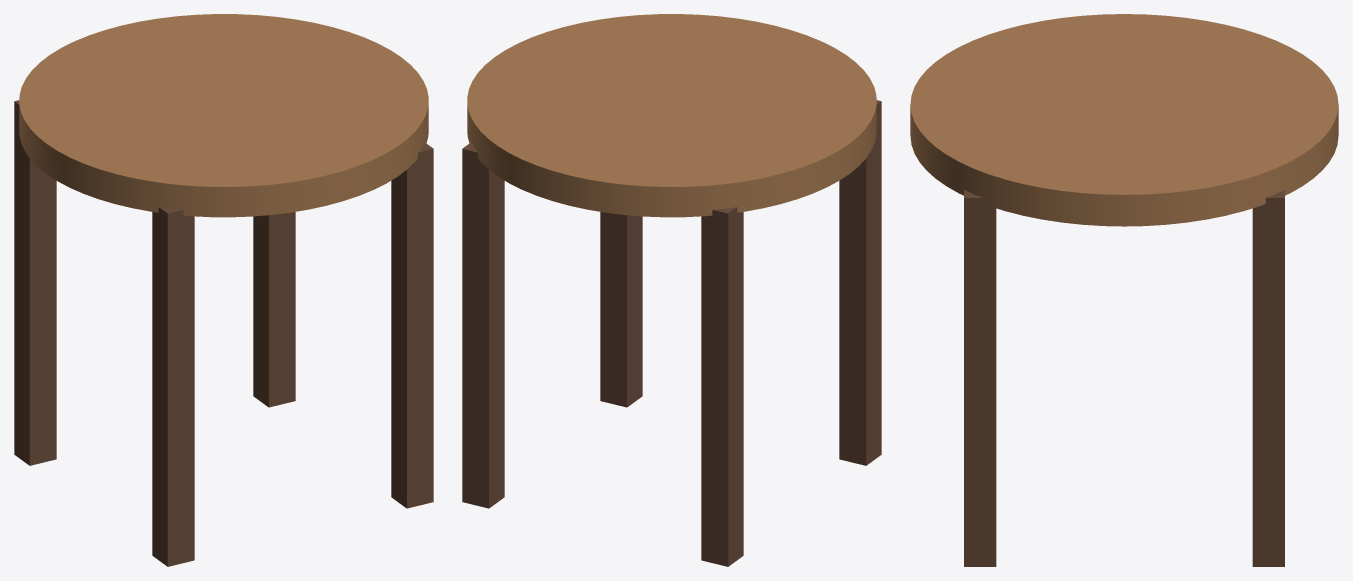
File: side_table.glb
The picture shows the model from 3 angles, left to right: view 1: azimuth 30°, elevation 25°; view 2: azimuth 150°, elevation 25°; view 3: azimuth 270°, elevation 25°; orthographic projection. The views are drawn at different scales.
Visible parts, largest first — view 1: Round tabletop, Leg.012, Leg.014, Leg.013, Leg.015; view 2: Round tabletop, Leg.013, Leg.015, Leg.012, Leg.014; view 3: Round tabletop, Leg.014, Leg.015.
Part boxes in pixels (left/top/right/bottom): Round tabletop: left=19, top=14, right=428, bottom=217; Leg.012: left=152, top=207, right=194, bottom=566; Leg.014: left=391, top=142, right=433, bottom=508; Leg.013: left=14, top=100, right=56, bottom=465; Leg.015: left=253, top=212, right=295, bottom=407; Round tabletop: left=467, top=14, right=876, bottom=217; Leg.013: left=701, top=207, right=743, bottom=566; Leg.015: left=462, top=142, right=504, bottom=508; Leg.012: left=839, top=100, right=881, bottom=465; Leg.014: left=600, top=212, right=642, bottom=407; Round tabletop: left=910, top=14, right=1338, bottom=226; Leg.014: left=964, top=190, right=996, bottom=566; Leg.015: left=1252, top=190, right=1284, bottom=566.
Bounding box in the file's own units: 0.515 × 0.524 × 0.515.
